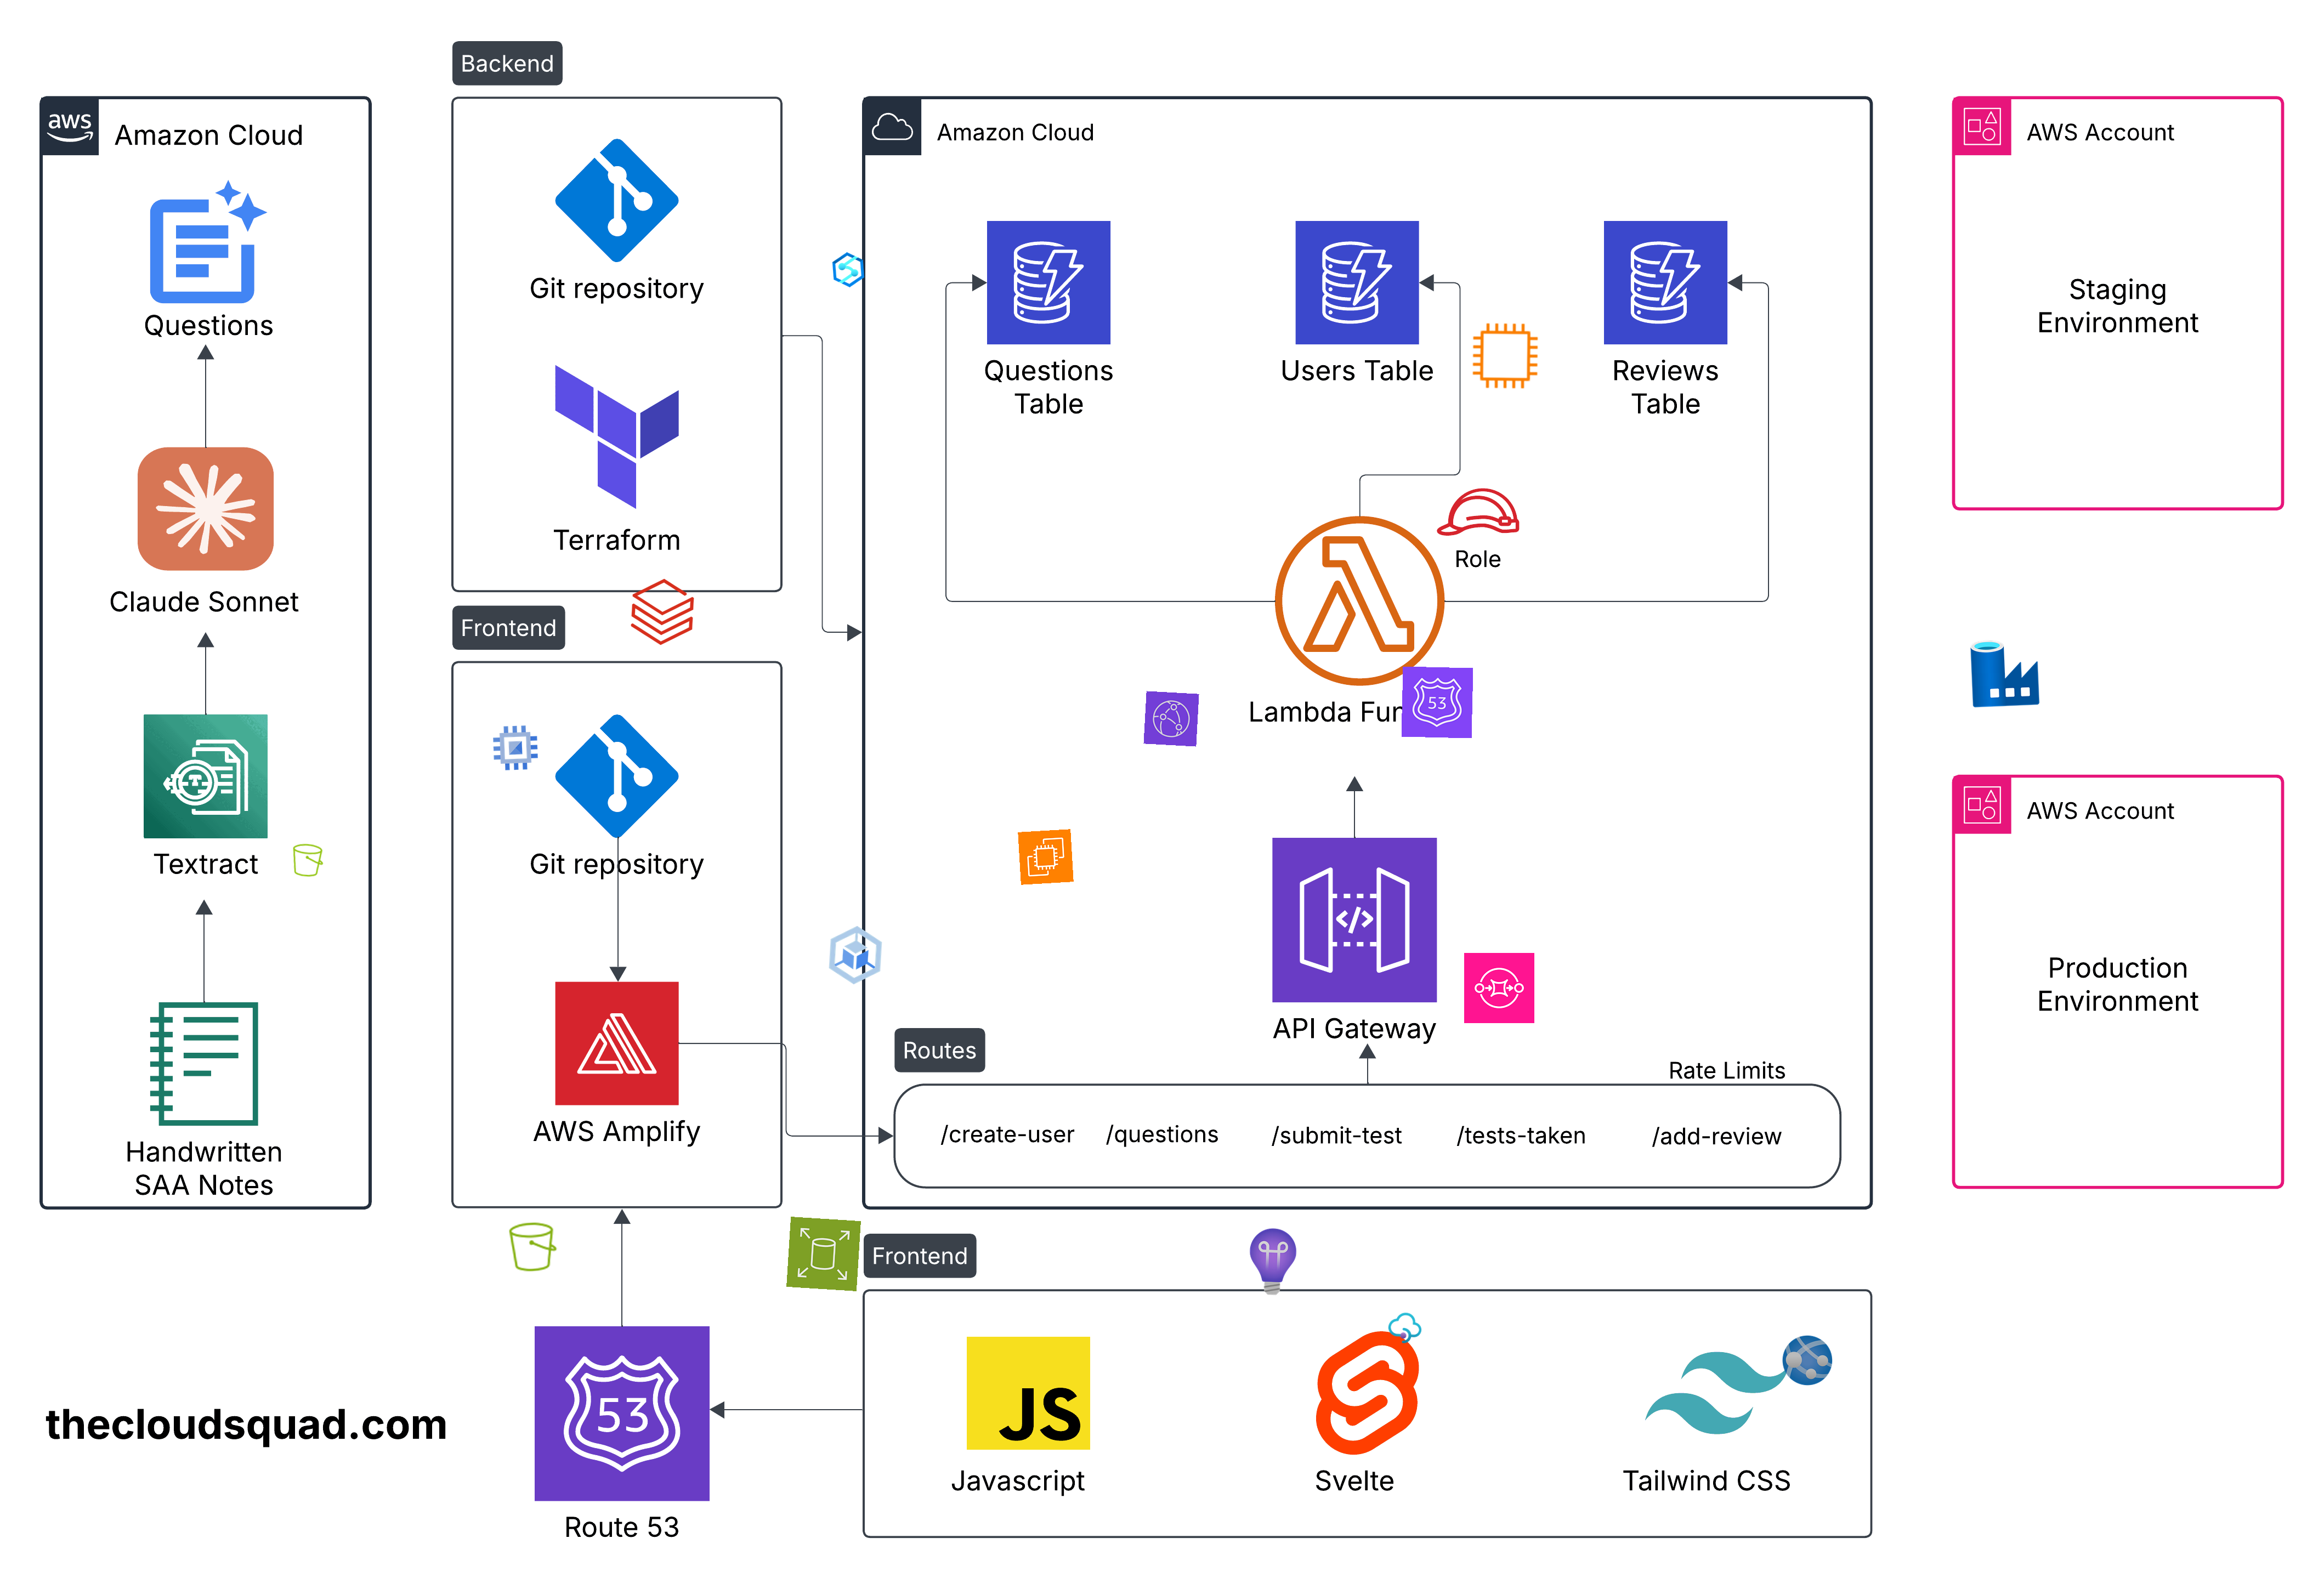aws_amazon_cloudfront: (1143, 690, 1199, 747)
aws_amazon_ec2: (1018, 830, 1074, 884)
aws_amazon_elastic_block_store: (787, 1217, 861, 1291)
aws_amazon_route_53: (1401, 666, 1474, 738)
aws_amazon_simple_queue_service: (1463, 953, 1535, 1023)
aws_ec2_instance: (1470, 321, 1541, 391)
aws_simple_storage_service_bucket: (505, 1219, 560, 1275)
aws_simple_storage_service_s3_standard: (289, 842, 327, 879)
azure_api_management_services: (1386, 1309, 1424, 1347)
azure_app_services: (1780, 1333, 1835, 1388)
azure_application_insights: (1236, 1226, 1308, 1298)
azure_data_factories: (1968, 636, 2042, 710)
azure_databricks: (625, 574, 699, 650)
azure_synapse_analytics: (829, 250, 868, 289)
gcp_compute_engine: (488, 720, 542, 775)
gcp_google_kubernetes_engine: (819, 918, 893, 993)
